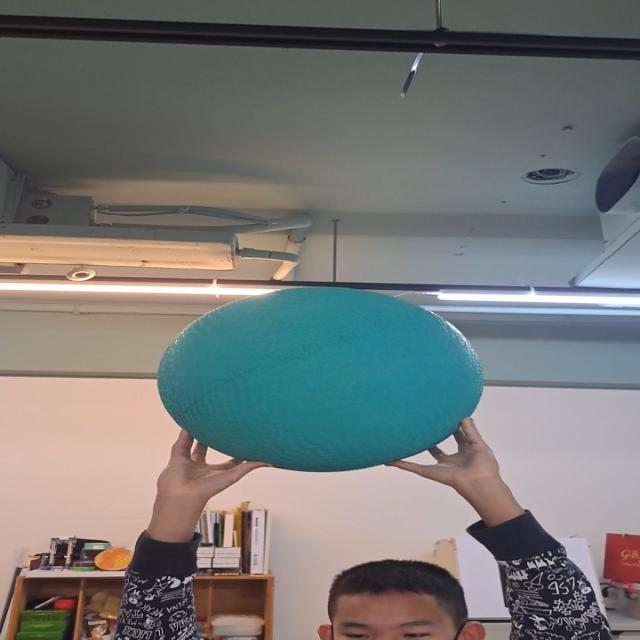ALGAE: (158, 286, 485, 472)
